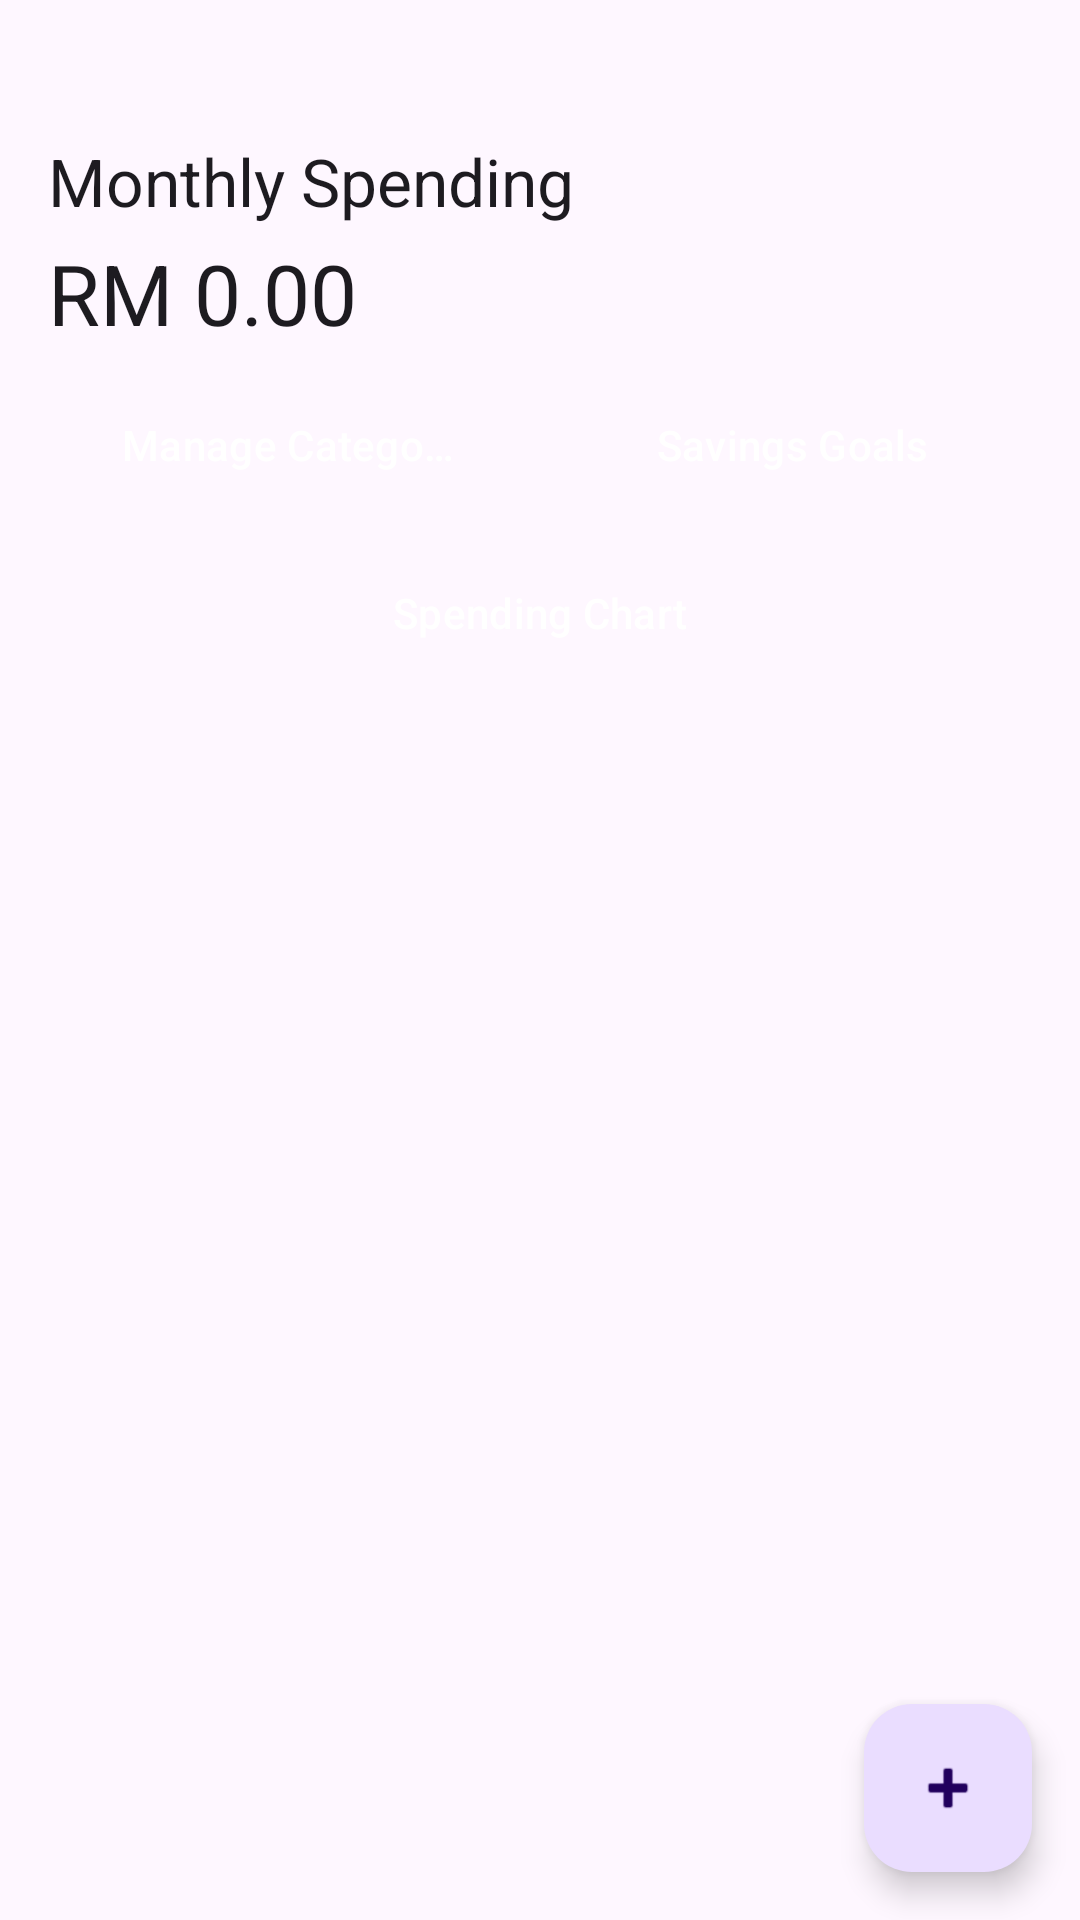

Locate icon controls on the screen. Image size 1080 x 1920, boxes as region(x1, y1, x2, y2).
Add transaction: region(864, 1704, 1032, 1872)
